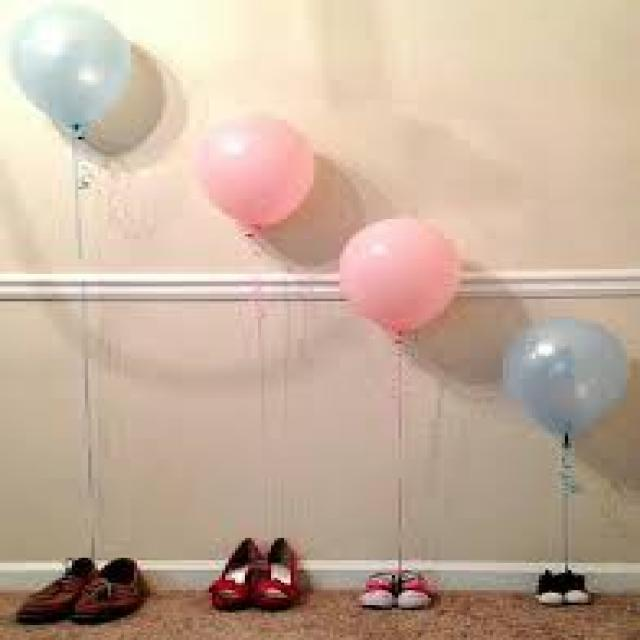balloon: (6, 1, 135, 130), (505, 316, 631, 438), (338, 218, 462, 331), (195, 119, 316, 228)
